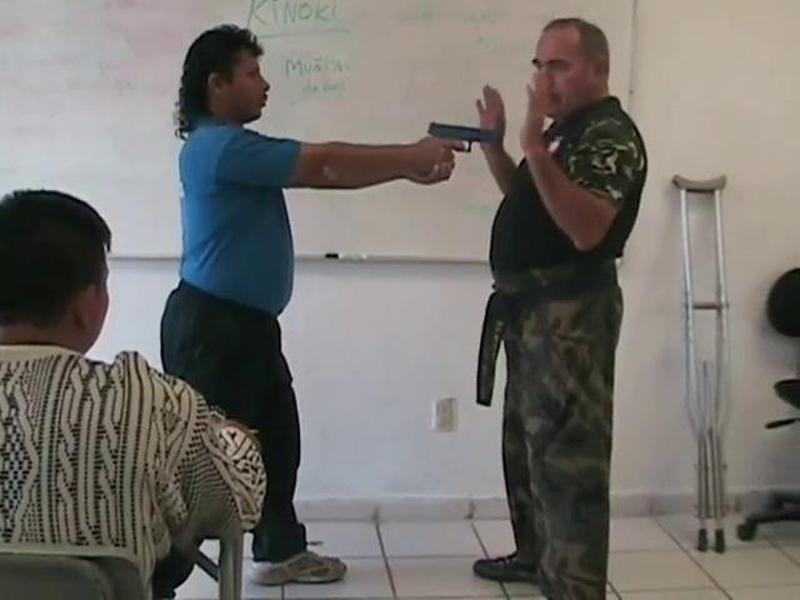Pistola: (425, 118, 506, 165)
